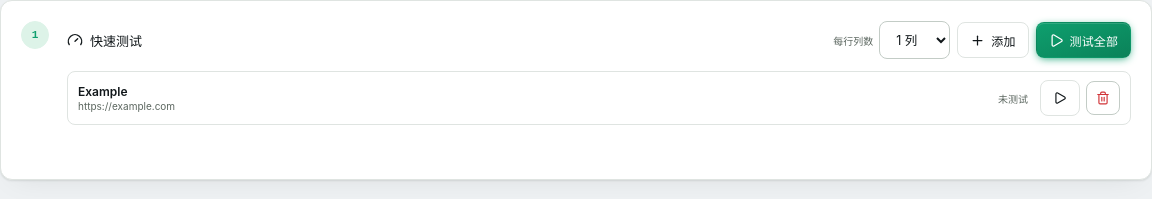
Scenario: QuickTest › labels the direct measurement as the TUN chain when TUN is active
This screenshot has width=1152, height=199.
Click the button named "测试 Example". click: [1060, 98]
box: 1040,80 -> 1080,116
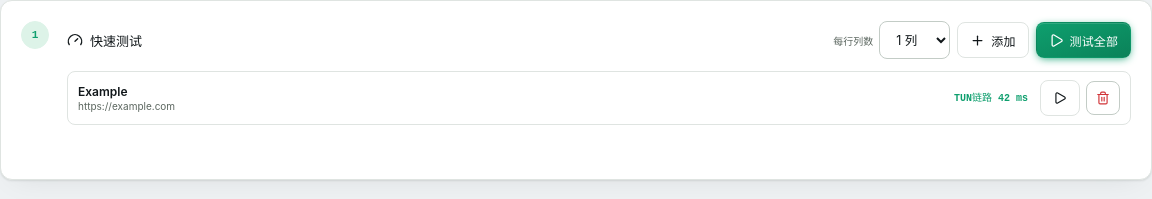
Now the text "TUN链路 42 ms" is shown, box 954,92 -> 1028,104
